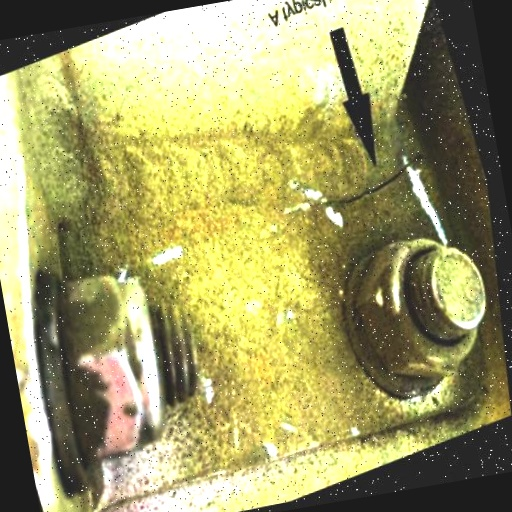crack: (162, 67, 512, 333)
